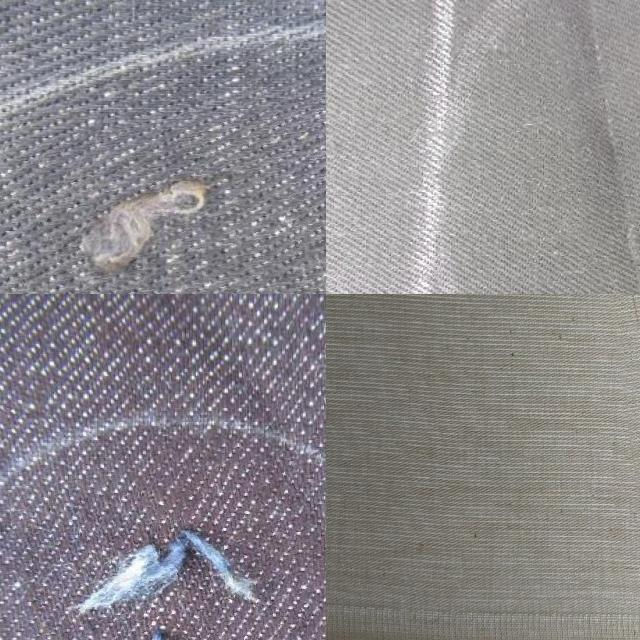stains: (0, 108, 326, 294), (16, 458, 325, 640), (570, 0, 640, 294), (602, 294, 640, 549)
